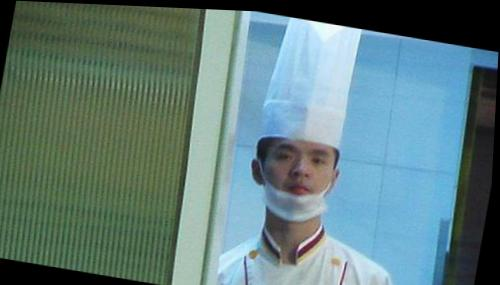WRONG: (261, 136, 341, 221)
